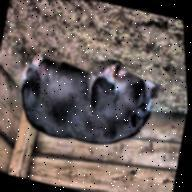boar: (9, 41, 167, 160)
